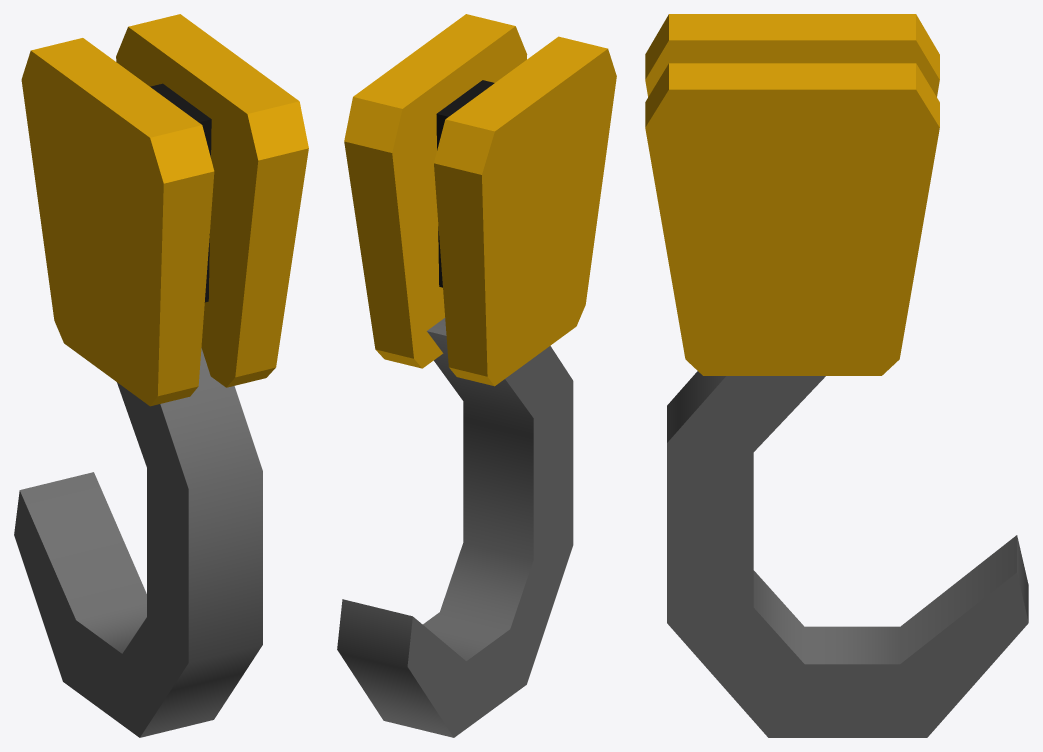
File: crane_Hook.glb
The picture shows the model from 3 angles, left to right: view 1: azimuth 30°, elevation 25°; view 2: azimuth 150°, elevation 25°; view 3: azimuth 270°, elevation 25°; orthographic projection. The views are drawn at different scales.
Parts seen in each view (by area): view 1: Cube.001; view 2: Cube.001; view 3: Cube.001.
Part boxes in pixels (box(x1,y1,x2,y2)): Cube.001: box(14, 14, 308, 737); Cube.001: box(337, 14, 616, 737); Cube.001: box(645, 14, 1028, 737).
Size of the model in its own units: 0.2197 by 0.9044 by 0.471.
